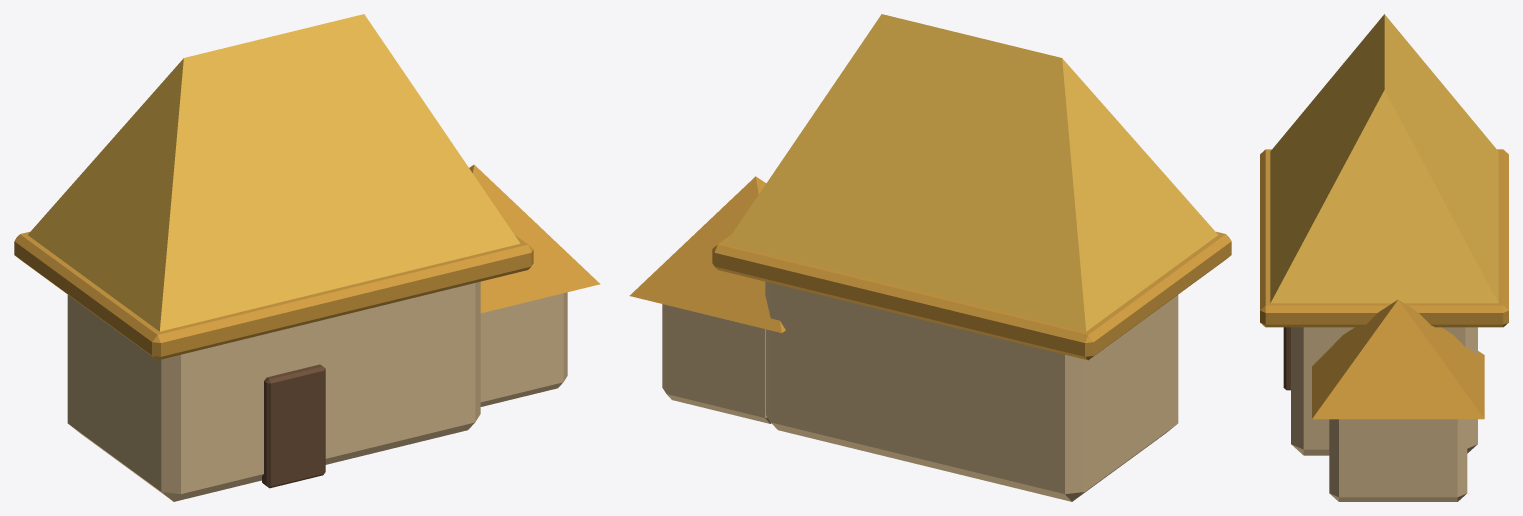
File: ns-house-1c.glb
The picture shows the model from 3 angles, left to right: view 1: azimuth 30°, elevation 25°; view 2: azimuth 150°, elevation 25°; view 3: azimuth 270°, elevation 25°; orthographic projection. The views are drawn at different scales.
Visible parts, largest first — view 1: Cube; view 2: Cube; view 3: Cube.
Part boxes in pixels (x1,y1,x2,y2): Cube: [14, 14, 600, 501]; Cube: [629, 14, 1231, 501]; Cube: [1260, 14, 1508, 501].
Bounding box in the file's own units: 0.685 × 0.545 × 0.36.
